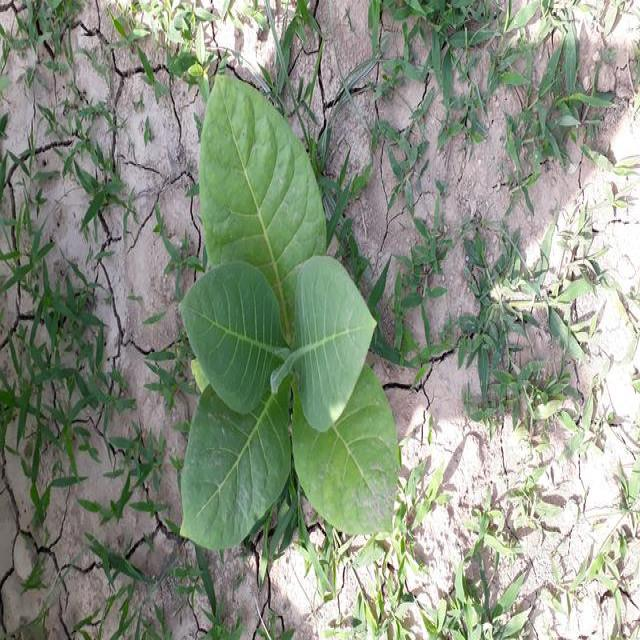crop: (180, 40, 396, 557)
